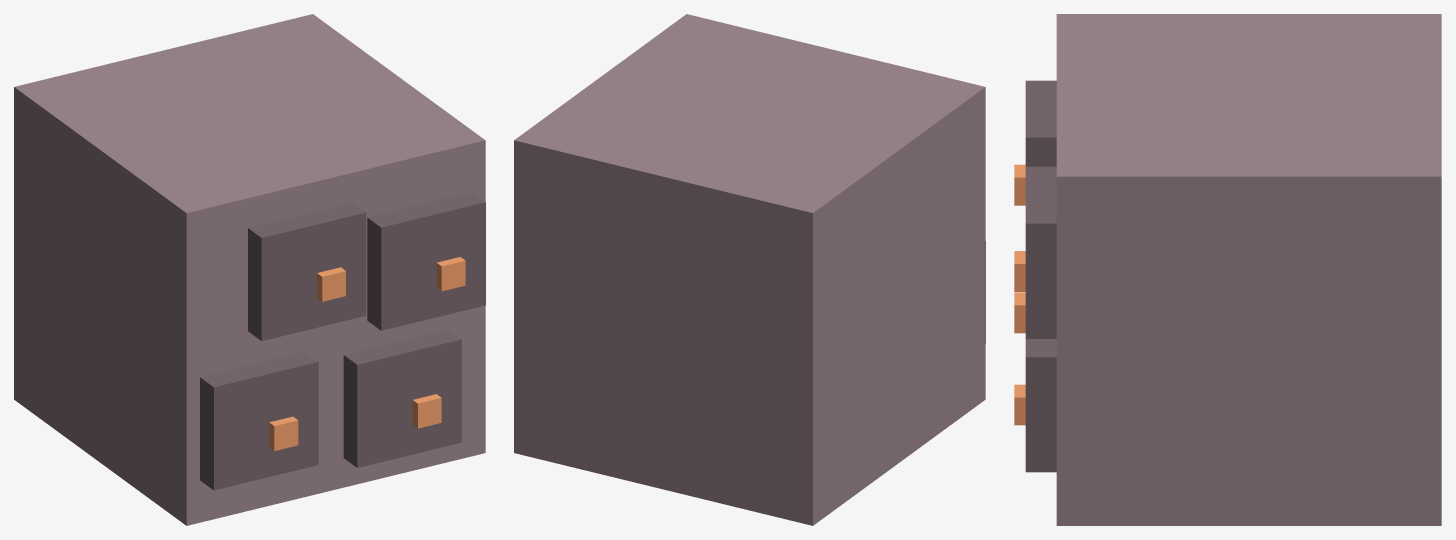
Rendered from 5_emberash_crust.glb.
The picture shows the model from 3 angles, left to right: view 1: azimuth 30°, elevation 25°; view 2: azimuth 150°, elevation 25°; view 3: azimuth 270°, elevation 25°; orthographic projection. The views are drawn at different scales.
Parts seen in each view (by area): view 1: Core, CrustPlate_0, CrustPlate_1, CrustPlate_3, CrustPlate_2, Glow_0, Glow_1, Glow_3, Glow_2; view 2: Core; view 3: Core, CrustPlate_3, CrustPlate_1, CrustPlate_2, Glow_0, Glow_1, Glow_2.
Part boxes in pixels (x1,y1,x2,y2): Core: [14, 14, 485, 525]; CrustPlate_0: [200, 352, 318, 490]; CrustPlate_1: [343, 329, 461, 467]; CrustPlate_3: [367, 192, 485, 330]; CrustPlate_2: [248, 202, 366, 340]; Glow_0: [269, 416, 298, 450]; Glow_1: [412, 394, 441, 428]; Glow_3: [436, 257, 465, 291]; Glow_2: [317, 267, 345, 301]; Core: [514, 14, 985, 525]; Core: [1056, 14, 1441, 525]; CrustPlate_3: [1025, 166, 1056, 338]; CrustPlate_1: [1025, 339, 1056, 472]; CrustPlate_2: [1025, 80, 1056, 166]; Glow_0: [1014, 292, 1025, 333]; Glow_1: [1014, 384, 1025, 425]; Glow_2: [1014, 164, 1025, 205].
Bounding box in the file's own units: 1 × 1 × 1.11.
